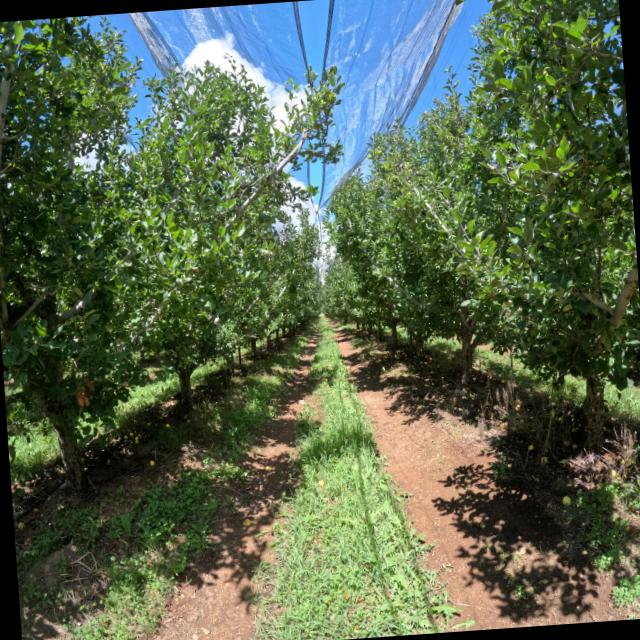-FireBlight-: (72, 375, 96, 408)
